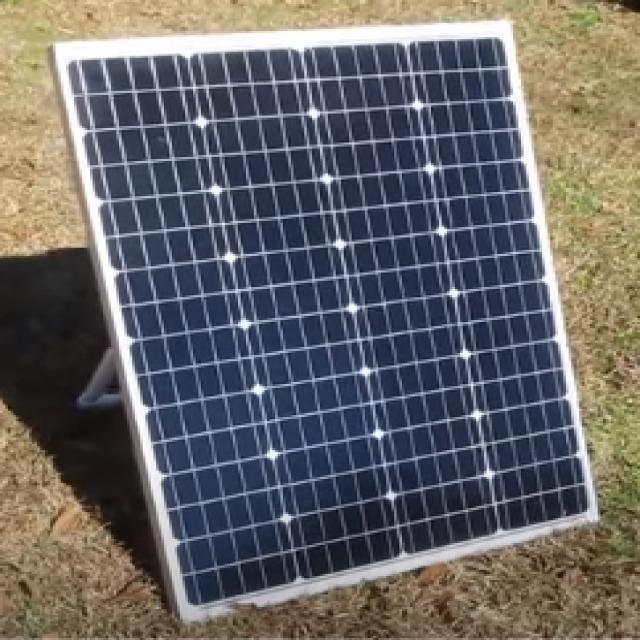Normal Solar Panel: (56, 23, 594, 621)
